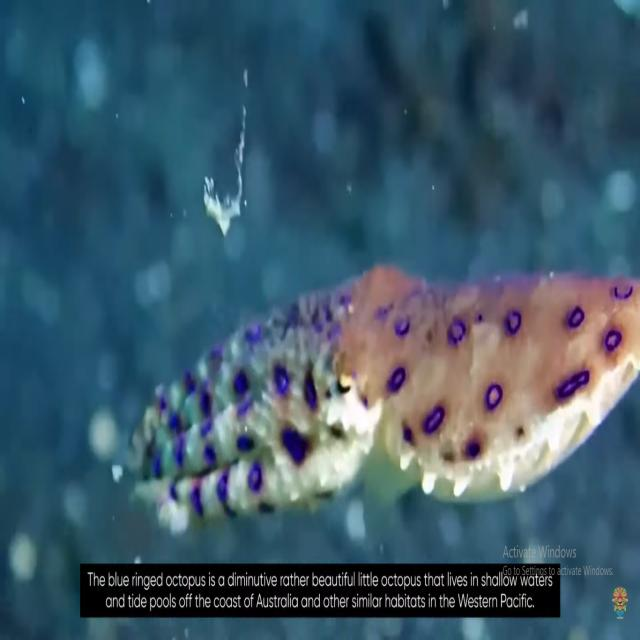blue_ringed_octopus: (128, 260, 640, 534)
